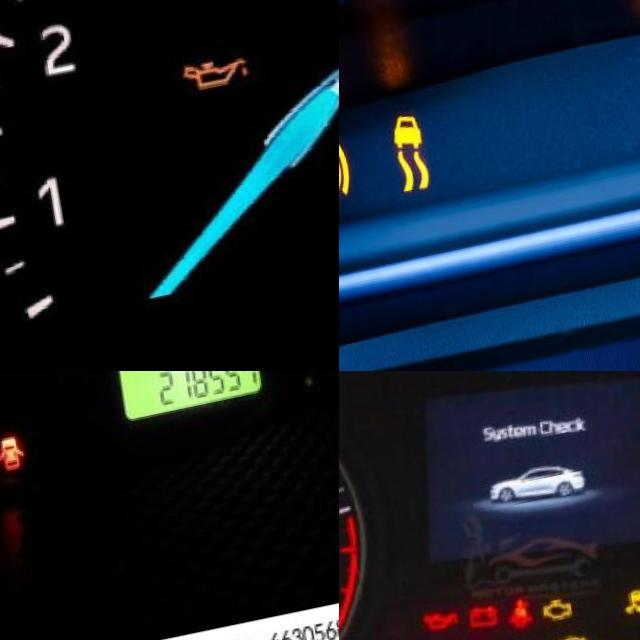Seat Belt: (484, 612, 517, 640)
